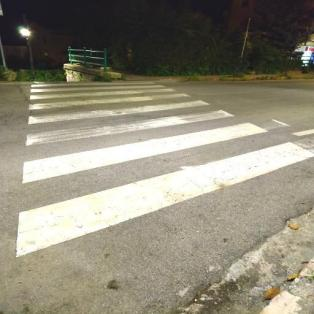Paso de Cebra: (21, 107, 271, 188)
